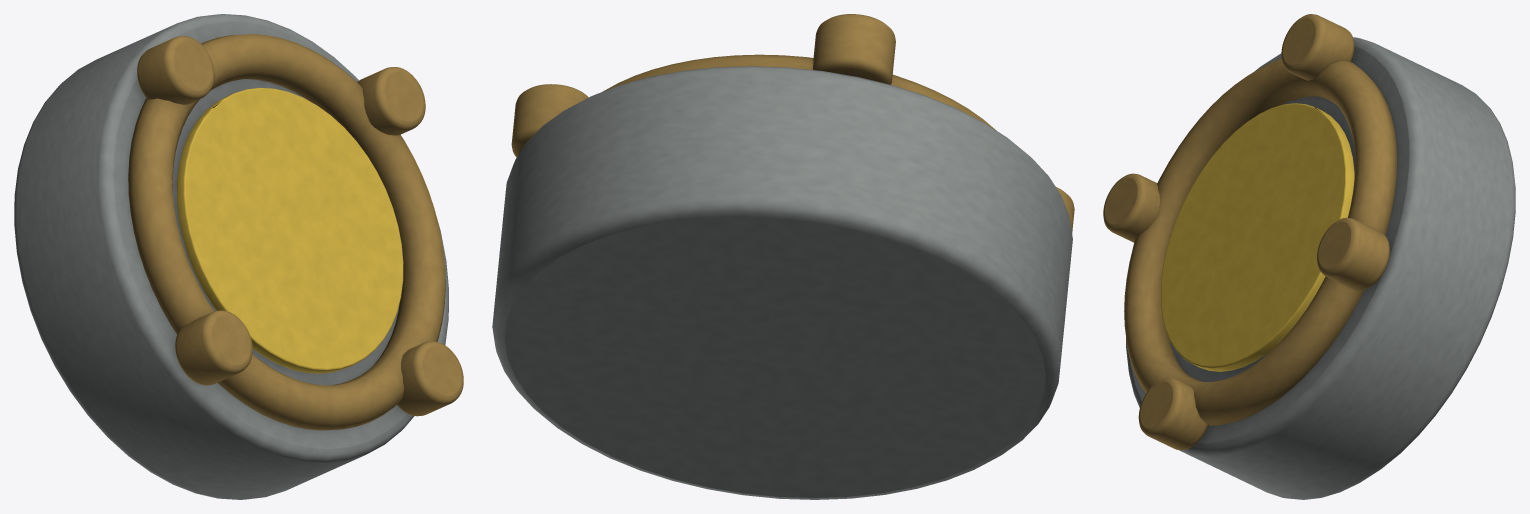
3 renders of one model, left to right at view 1: azimuth 30°, elevation 25°; view 2: azimuth 150°, elevation 25°; view 3: azimuth 270°, elevation 25°, orthographic. The views are drawn at different scales.
Parts seen in each view (by area): view 1: Keyed carrier puck; view 2: Keyed carrier puck; view 3: Keyed carrier puck.
Part boxes in pixels (x1,y1,x2,y2): Keyed carrier puck: [14, 14, 463, 499]; Keyed carrier puck: [492, 14, 1074, 499]; Keyed carrier puck: [1103, 14, 1515, 499].
Size of the model in its own units: 0.9471 by 0.9551 by 0.8397.
1 material, 1 textured.
